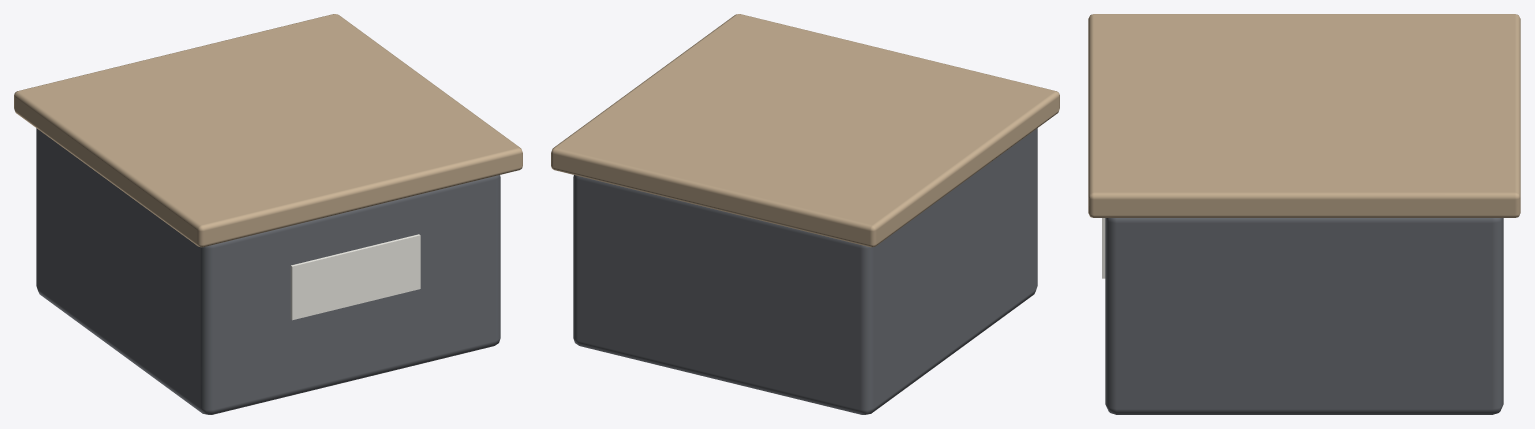
File: human-anatomy-and-education-kit-display-plinth-low-bdbc0b74__38965.glb
3 views of the same model, side by side, from view 1: azimuth 30°, elevation 25°; view 2: azimuth 150°, elevation 25°; view 3: azimuth 270°, elevation 25° (orthographic). The views are drawn at different scales.
Parts seen in each view (by area): view 1: display-plinth-low; view 2: display-plinth-low; view 3: display-plinth-low.
Boxes of the visible parts, <box> form: display-plinth-low: <box>14,14,522,414</box>; display-plinth-low: <box>551,14,1059,414</box>; display-plinth-low: <box>1088,14,1520,414</box>.
Size of the model in its own units: 0.76 by 0.45 by 0.76.
